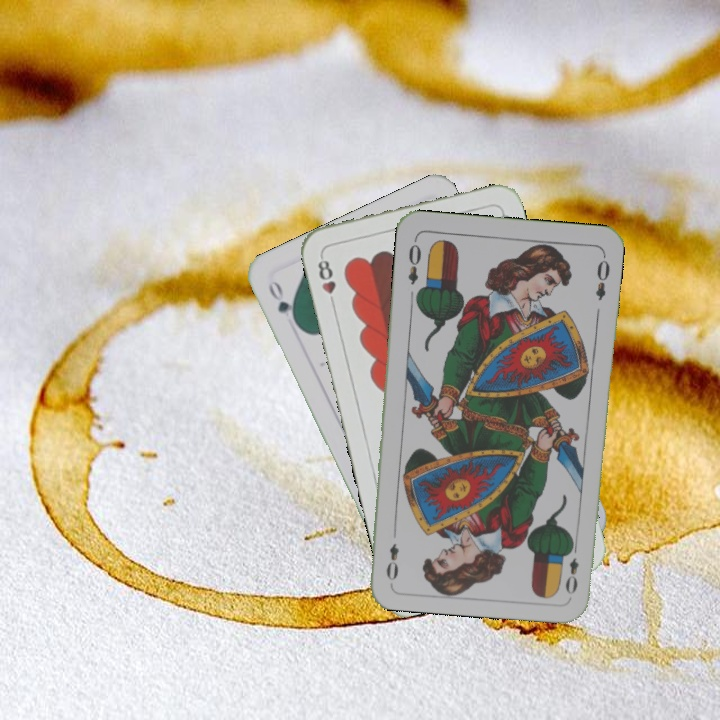EO: (561, 539, 582, 597), (403, 235, 424, 287)
GO: (264, 276, 301, 329)
H8: (314, 251, 339, 310)
